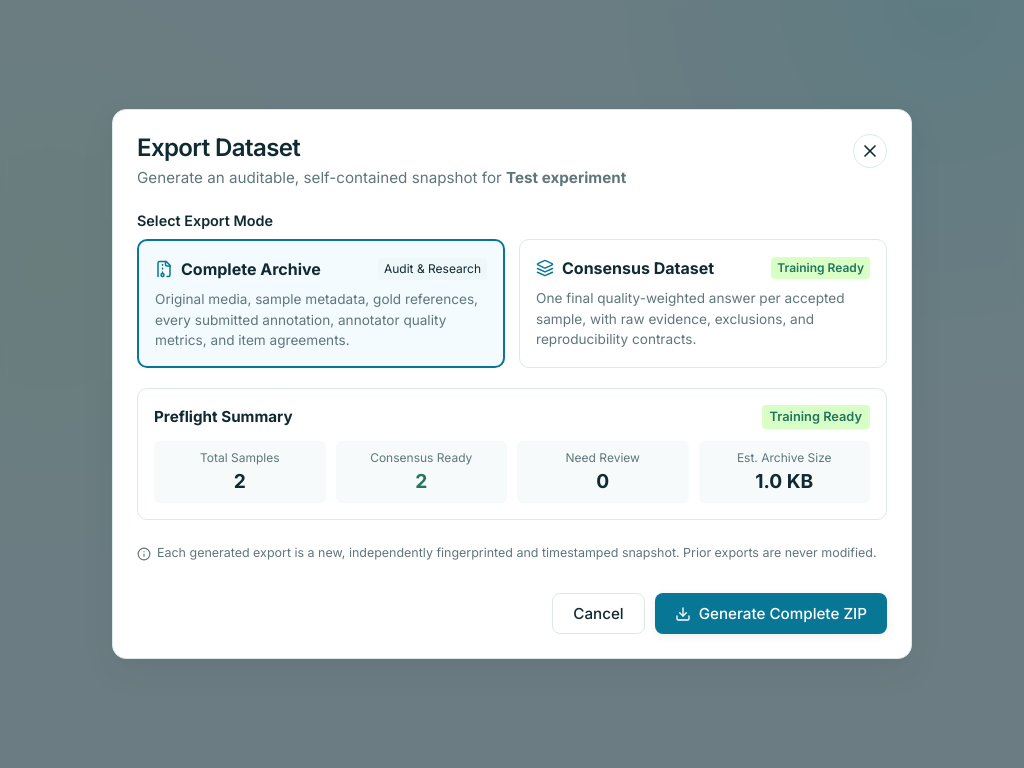
Test: ExportDatasetModal interactions › renders consensus thresholds panel and toggles advanced settings in consensus mode
Expected: the text "Preflight Summary" is shown, [154,406,293,428]
Expected: the text "Consensus Guardrail Thresholds" is not shown
Note: Click consensus card
Click the text "Consensus Dataset" at (638, 268), box [562,256,714,280]
(page scrolled)
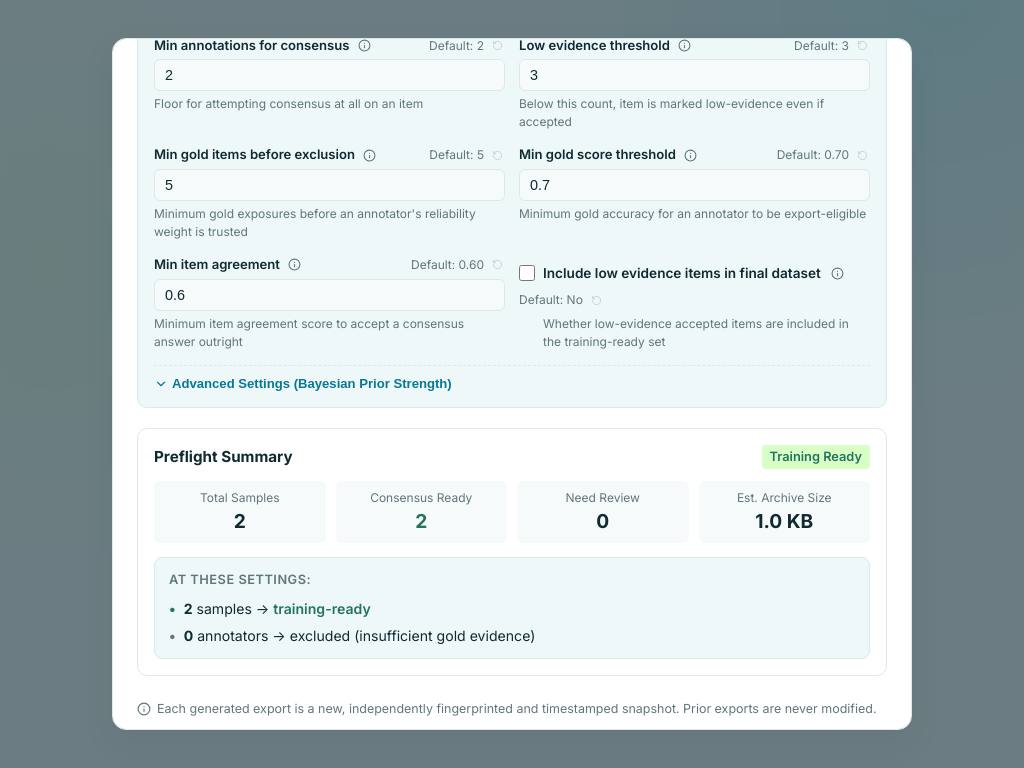
Result: the number field labelled "Min annotations for consensus" holds "2" at [154,59,505,91]
Result: the number field labelled "Low evidence threshold" holds "3" at [519,59,870,91]
Result: the number field labelled "Min gold items before exclusion" holds "5" at [154,169,505,201]
Click the button "Advanced Settings (Bayesian Prior Strength)" at (303, 384), box [154,376,452,392]
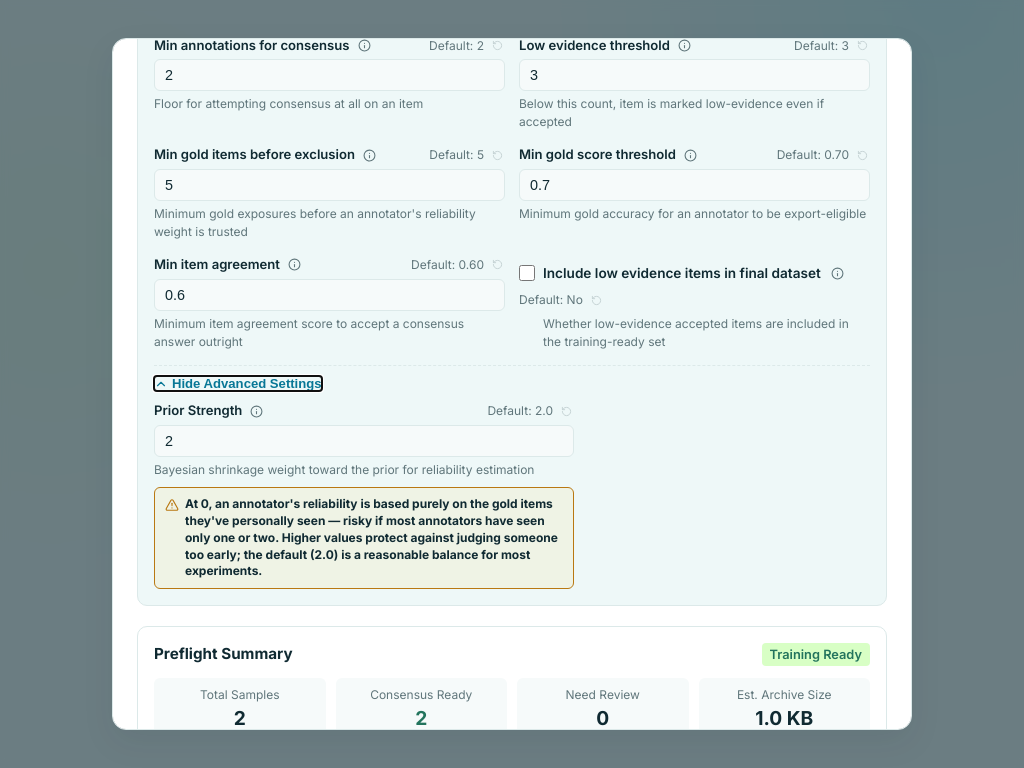
Result: the number field labelled "Prior Strength" holds "2" at [154,425,574,457]
Note: Modify a value and test Reset to defaults
Replace the text in the number field labelled "Min gold items before exclusion" with "2" at (330, 185), box [154,169,505,201]
(page scrolled)
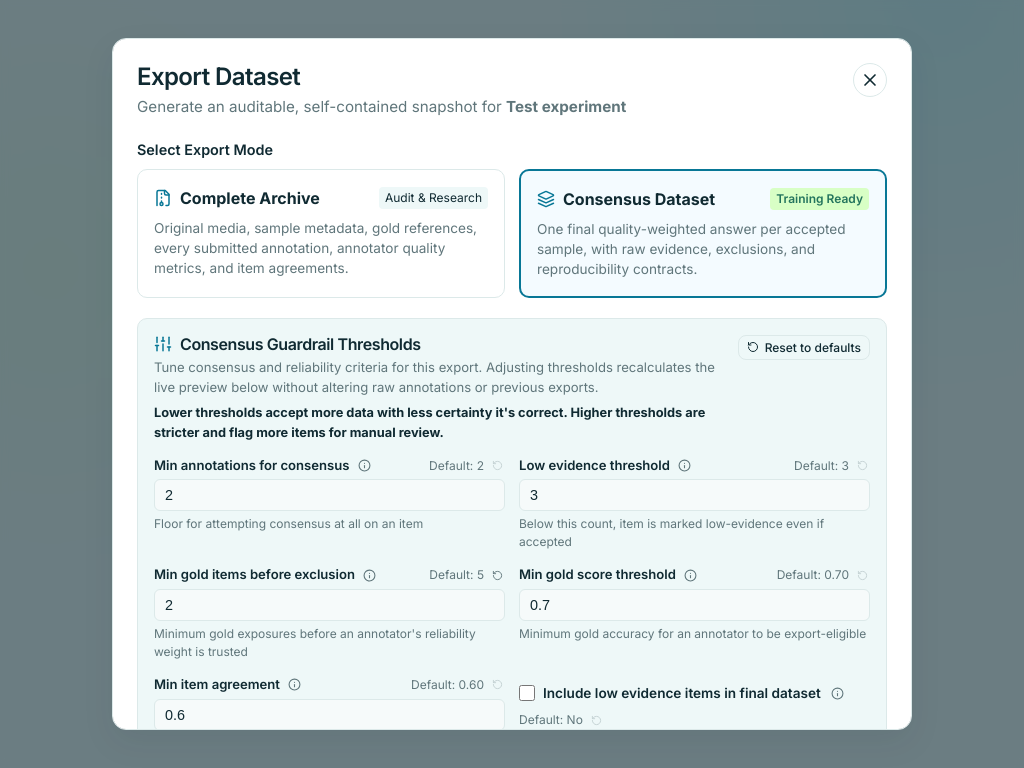
Click the button "Reset to defaults" at (804, 347), box [738,335,870,360]
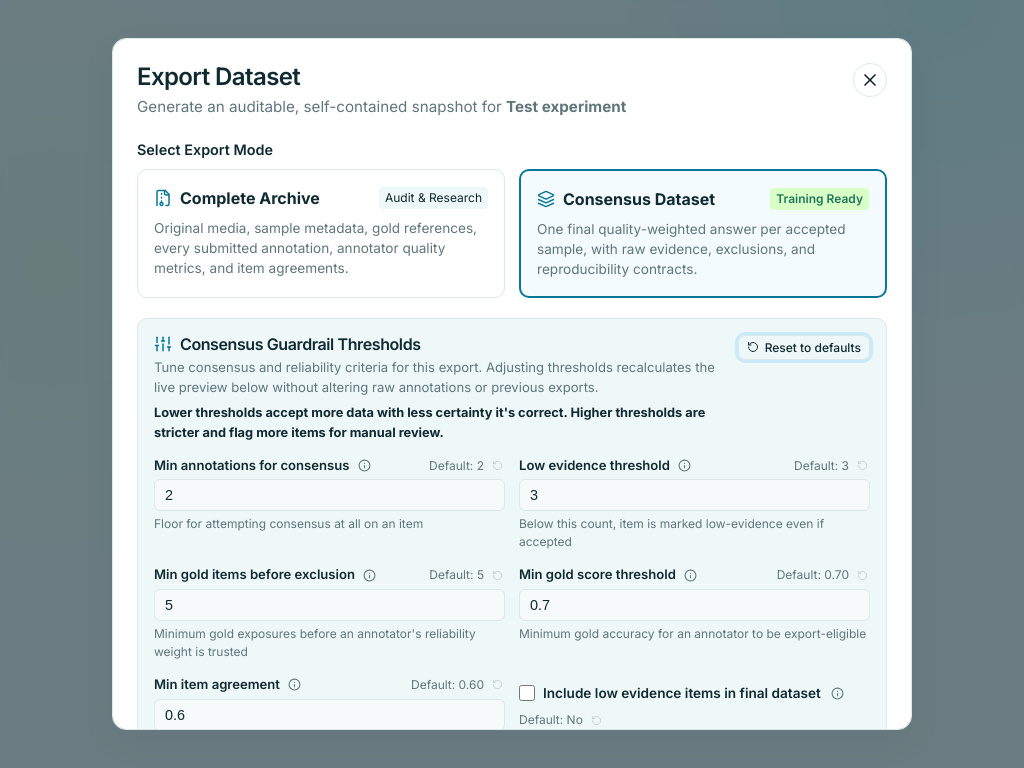
Result: the number field labelled "Min gold items before exclusion" holds "5" at [154,589,505,621]
